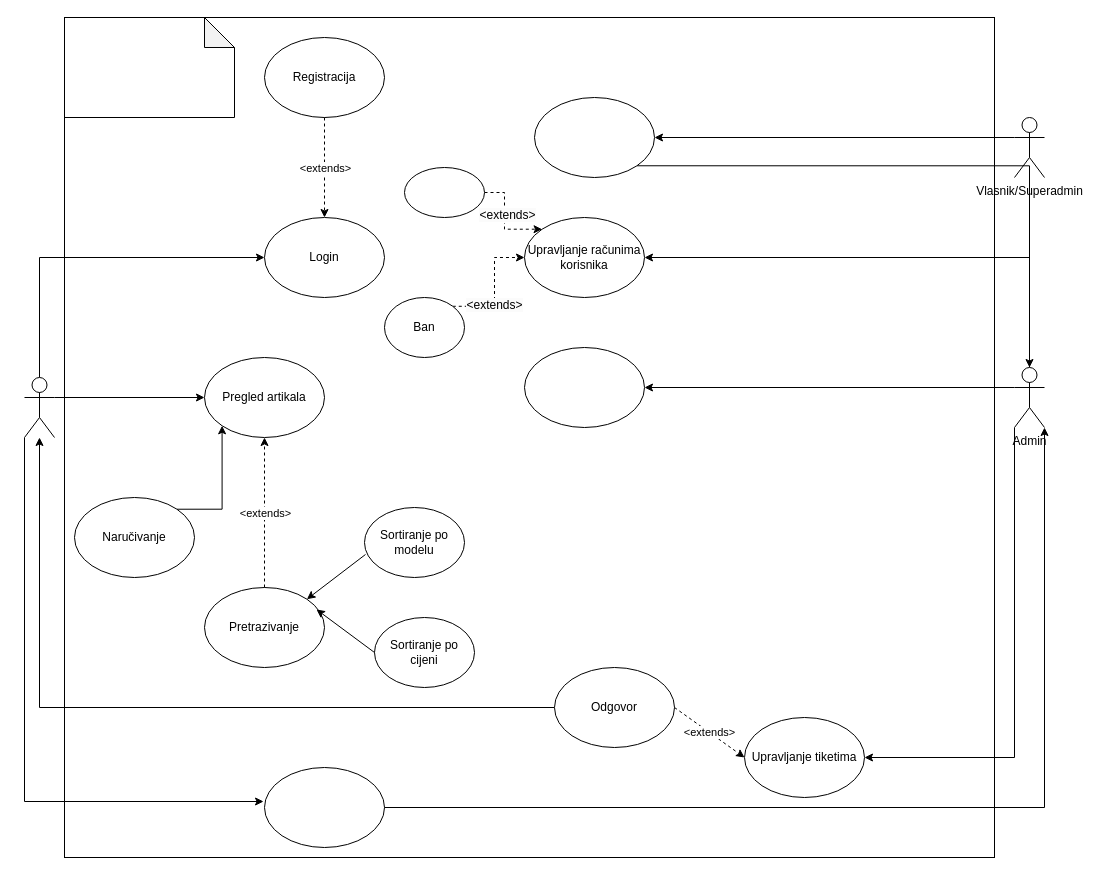
Image size: 1100x875. Some labels were removed from this diagram. The shapes that lost their labels are listed below. From the top down, each one's centre as x and y in pixels, then its label:
pixel 149 67: Auto Trgovina
pixel 594 137: Upravljanje adminima
pixel 444 192: Unban
pixel 39 407: Korisnik
pixel 584 387: Upravljanje artiklima
pixel 324 807: Slanje tiketa
